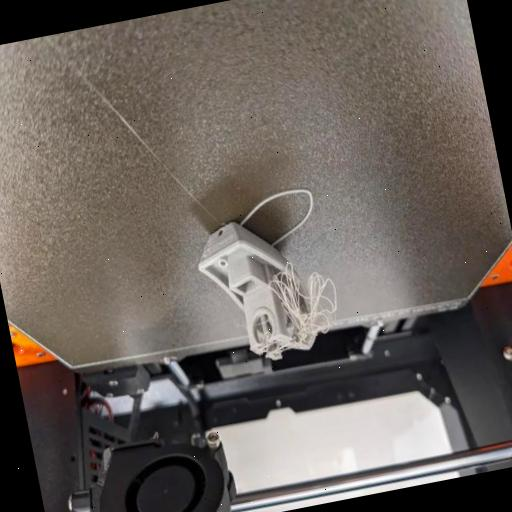spaghetti: (272, 258, 344, 342)
